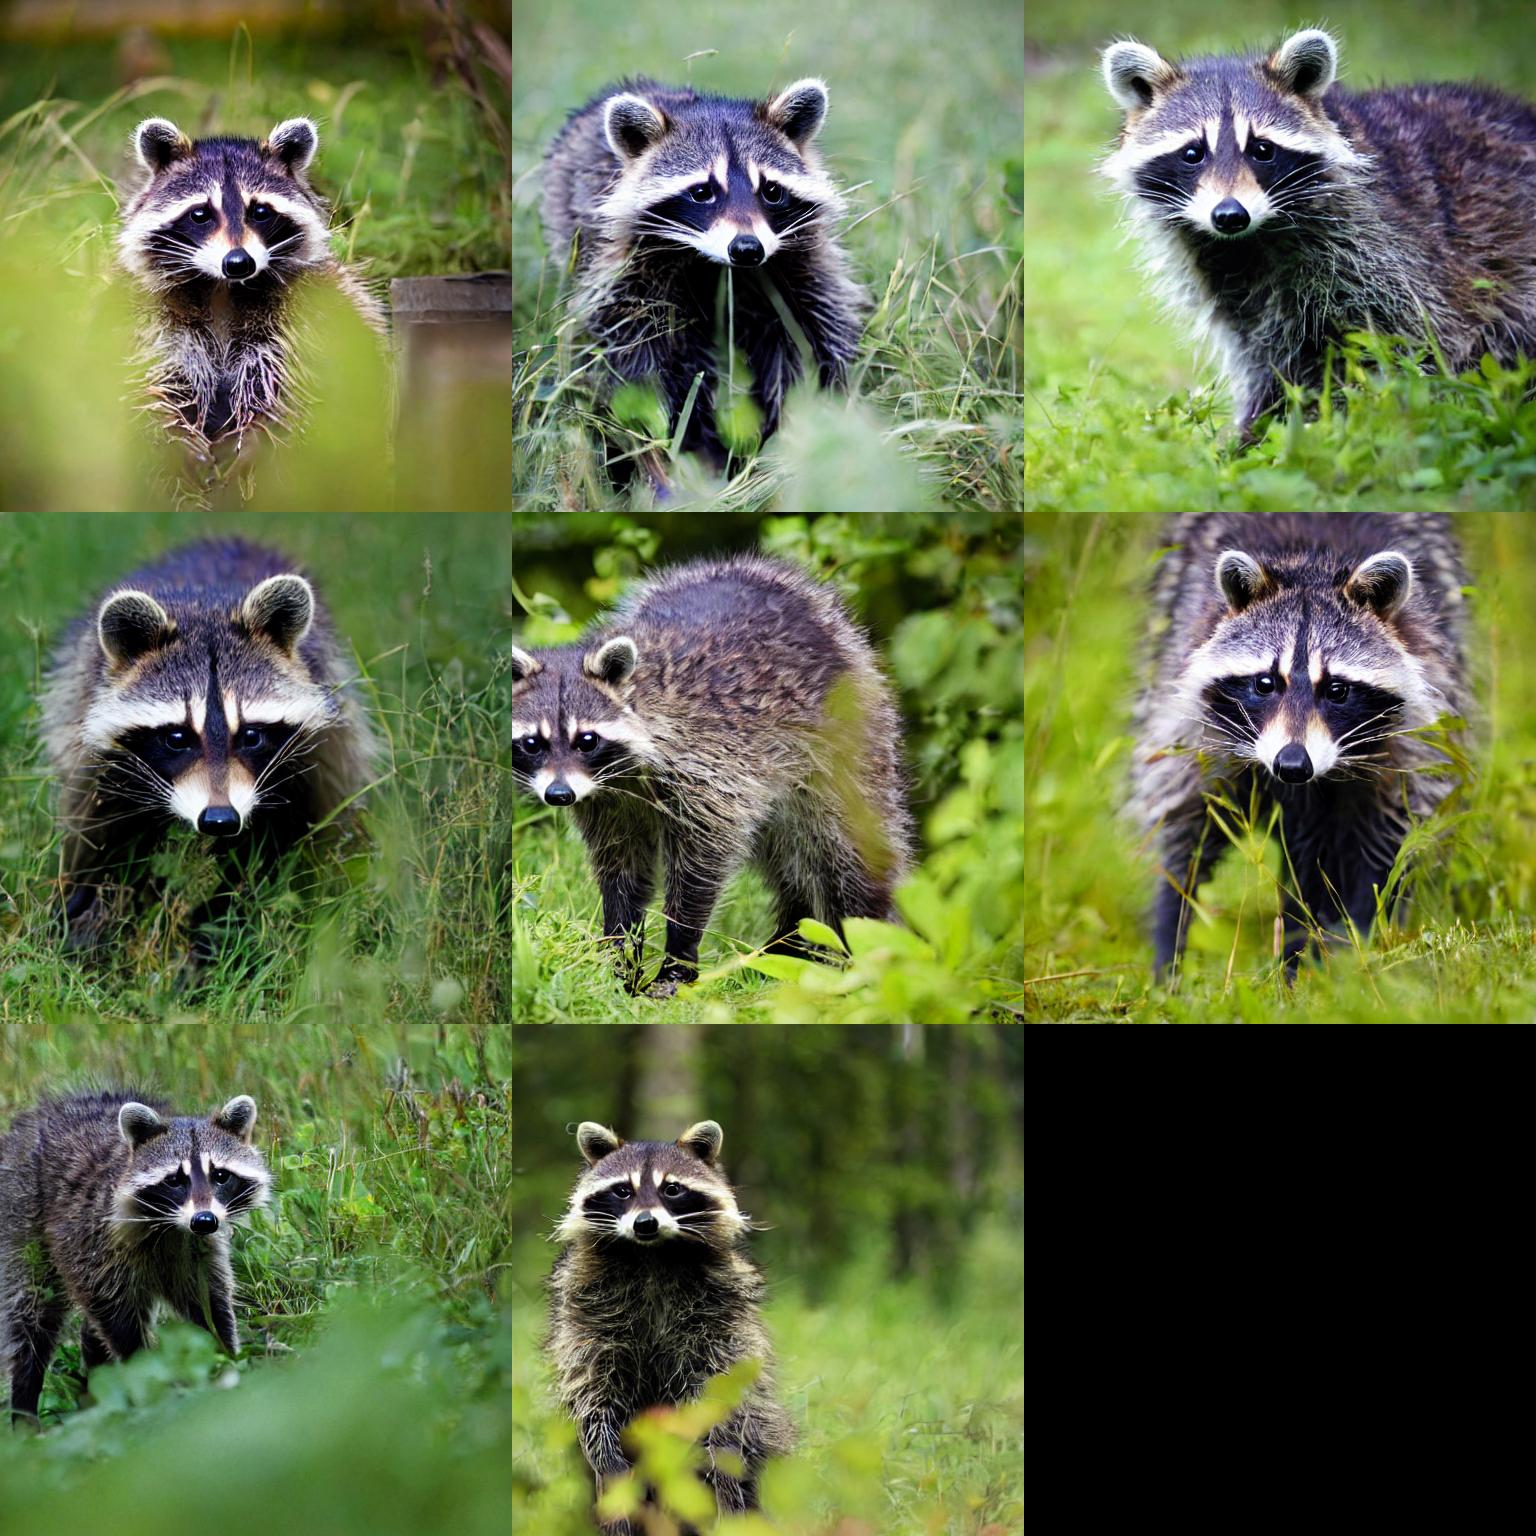raccoon: (1087, 17, 1536, 443), (1115, 511, 1492, 942), (15, 522, 418, 920), (515, 547, 923, 917), (518, 70, 878, 467), (110, 105, 387, 495), (537, 1110, 791, 1466), (0, 1072, 283, 1385)
